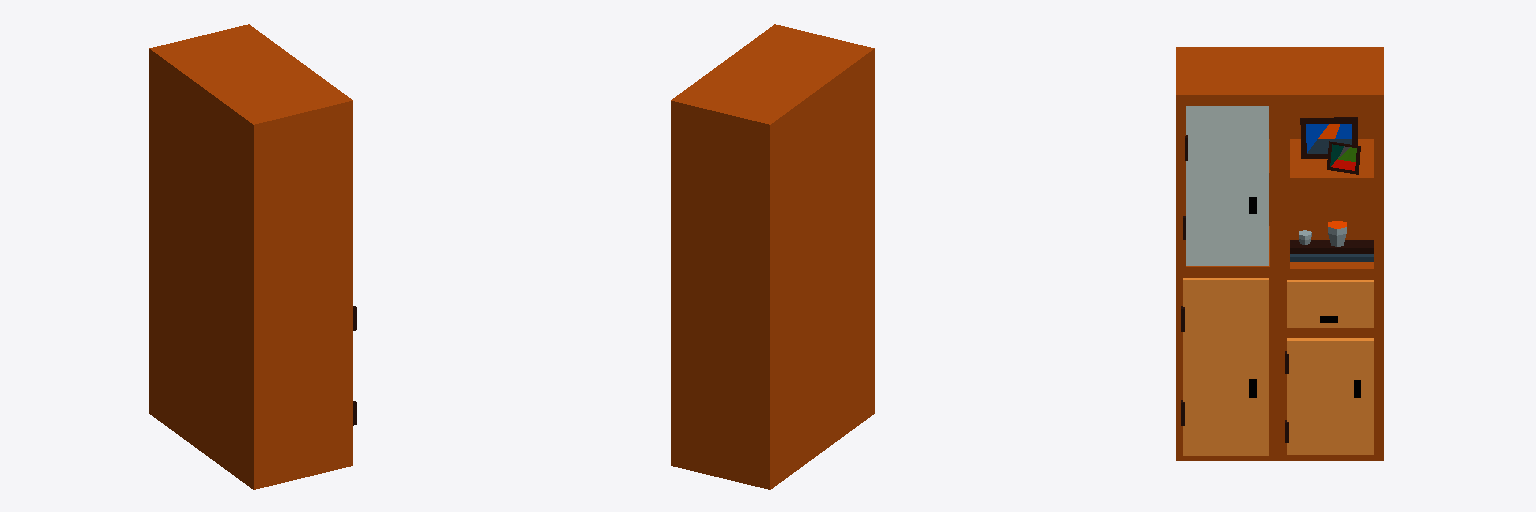
The picture shows the model from 3 angles: view 1: azimuth 30°, elevation 25°; view 2: azimuth 150°, elevation 25°; view 3: azimuth 270°, elevation 25°; orthographic projection.
Visible parts, largest first — view 1: group[number redacted]; view 2: group[number redacted]; view 3: group[number redacted], group[number redacted], group[number redacted], group[number redacted], group[number redacted], group[number redacted], group[number redacted], group[number redacted], group[number redacted].
Boxes of the visible parts, <box> form: group[number redacted]: <box>149,24,352,489</box>; group[number redacted]: <box>671,24,874,489</box>; group[number redacted]: <box>1176,47,1383,460</box>; group[number redacted]: <box>1183,278,1268,455</box>; group[number redacted]: <box>1186,106,1268,265</box>; group[number redacted]: <box>1287,338,1373,454</box>; group[number redacted]: <box>1287,280,1373,327</box>; group[number redacted]: <box>1300,117,1357,158</box>; group[number redacted]: <box>1290,240,1373,253</box>; group[number redacted]: <box>1327,141,1360,174</box>; group[number redacted]: <box>1290,254,1373,261</box>.
Size of the model in its own units: 0.35 by 1.12 by 0.58.